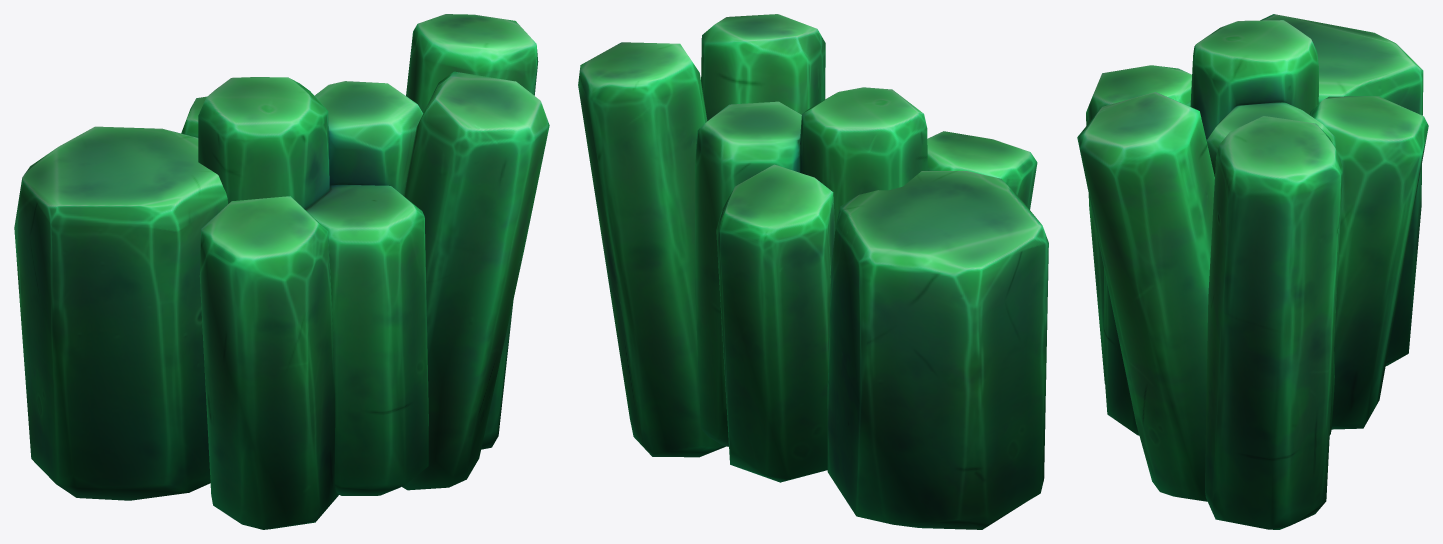
File: SM_Gem_Emerald_008.fbx
3 views of the same model, side by side, from view 1: azimuth 30°, elevation 25°; view 2: azimuth 150°, elevation 25°; view 3: azimuth 270°, elevation 25° (orthographic). The views are drawn at different scales.
Visible parts, largest first — view 1: SM_Gem_Emerald_008; view 2: SM_Gem_Emerald_008; view 3: SM_Gem_Emerald_008.
Part boxes in pixels (x1,y1,x2,y2): SM_Gem_Emerald_008: [14, 14, 549, 529]; SM_Gem_Emerald_008: [578, 14, 1048, 529]; SM_Gem_Emerald_008: [1077, 14, 1428, 529].
Bounding box in the file's own units: 69.91 × 55.65 × 44.95.
